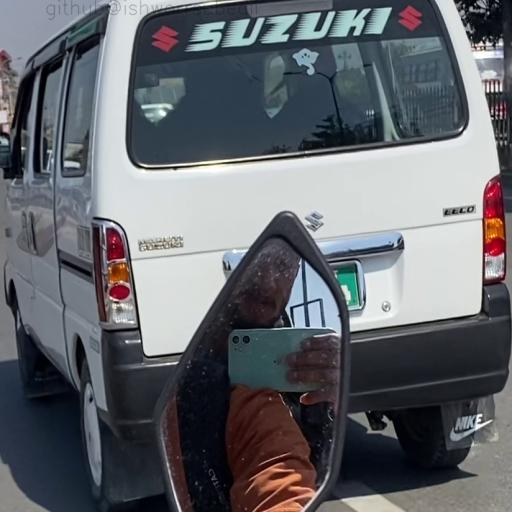license_plate: (326, 263, 365, 309)
